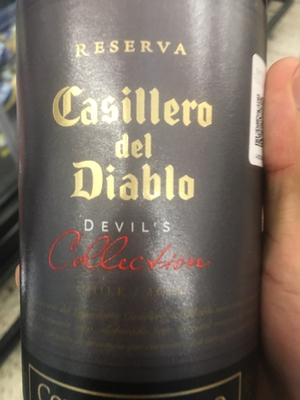casillero del diablo devils collection rojo: (17, 1, 261, 400)
